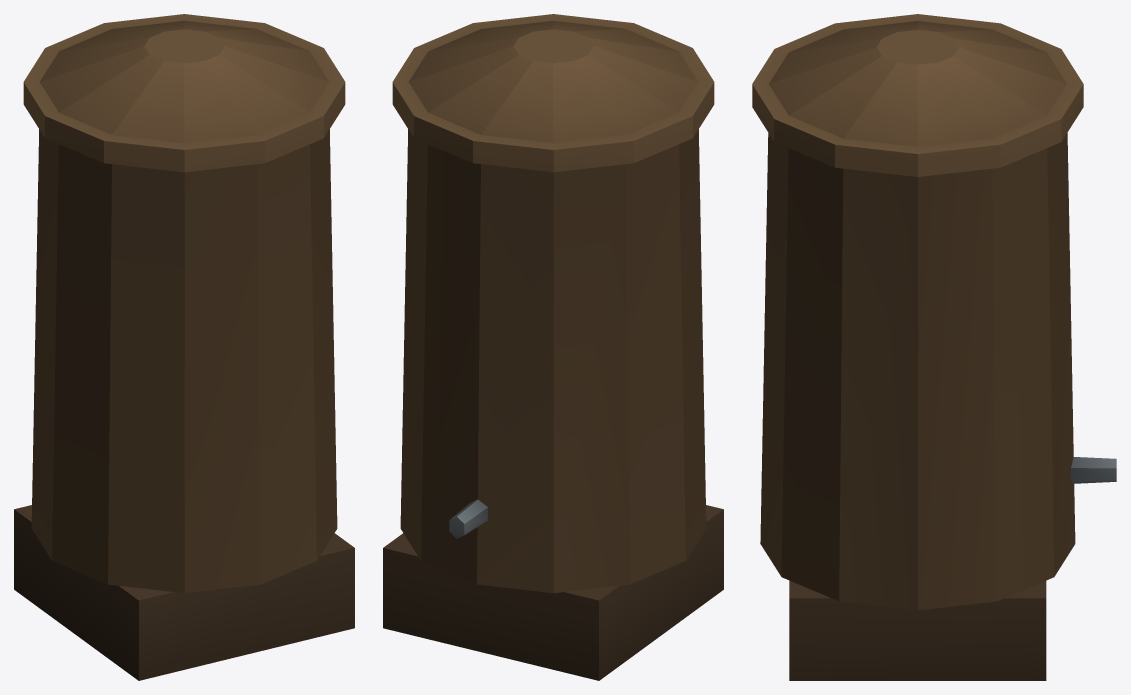
The model's file is struct_rain_barrel.glb.
The picture shows the model from 3 angles, left to right: view 1: azimuth 30°, elevation 25°; view 2: azimuth 150°, elevation 25°; view 3: azimuth 270°, elevation 25°; orthographic projection. The views are drawn at different scales.
Visible parts, largest first — view 1: barrel, stand; view 2: barrel, stand, spigot; view 3: barrel, stand, spigot.
Part boxes in pixels (box(x1,y1,x2,y2)): barrel: box(23, 14, 345, 593); stand: box(14, 505, 354, 680); barrel: box(392, 14, 714, 593); stand: box(383, 505, 723, 680); spigot: box(449, 499, 487, 538); barrel: box(752, 14, 1083, 610); stand: box(789, 580, 1046, 680); spigot: box(1071, 457, 1116, 483).
Size of the model in its own units: 0.6533 by 1.26 by 0.7187.
